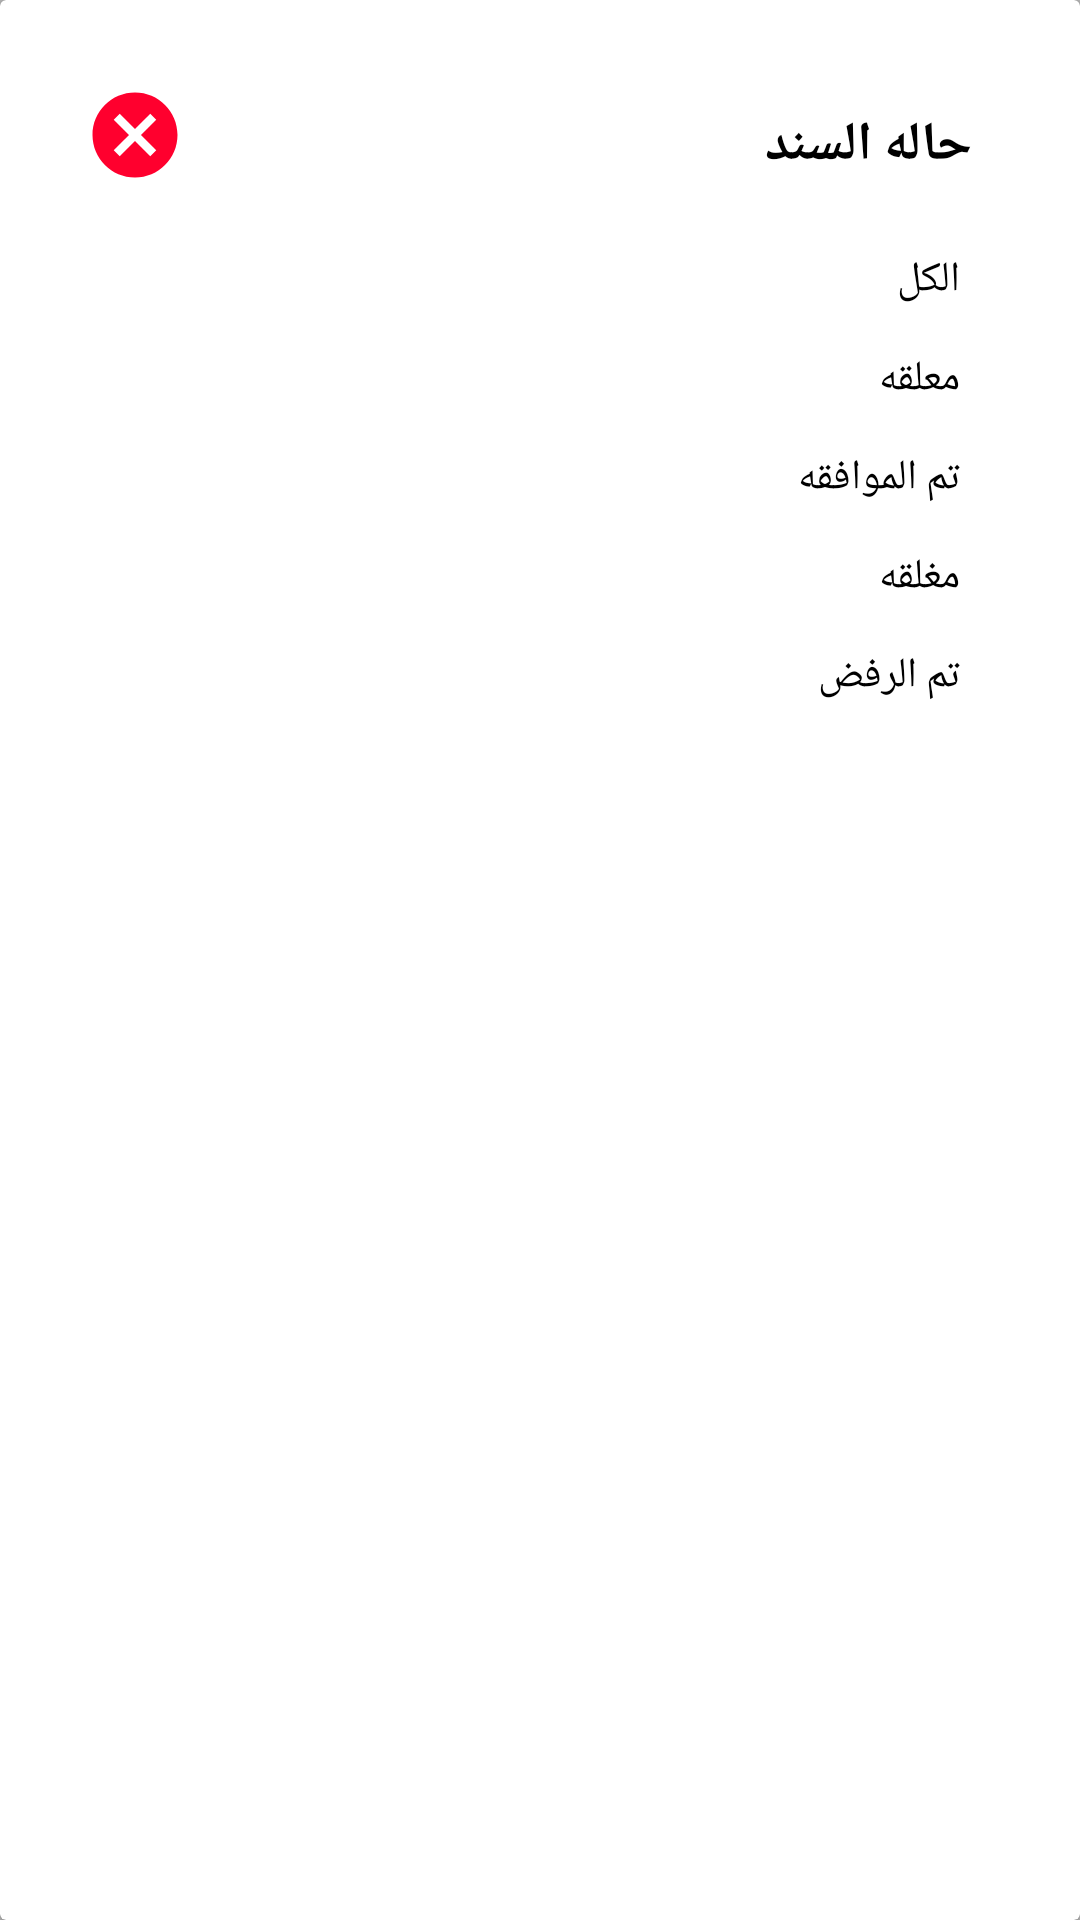

Screen size 1080w x 1920h. Icon name, then its box in pixels as [left=x1, top=y1, right=x2, bottom=y2]:
cancel: [left=92, top=92, right=178, bottom=178]
